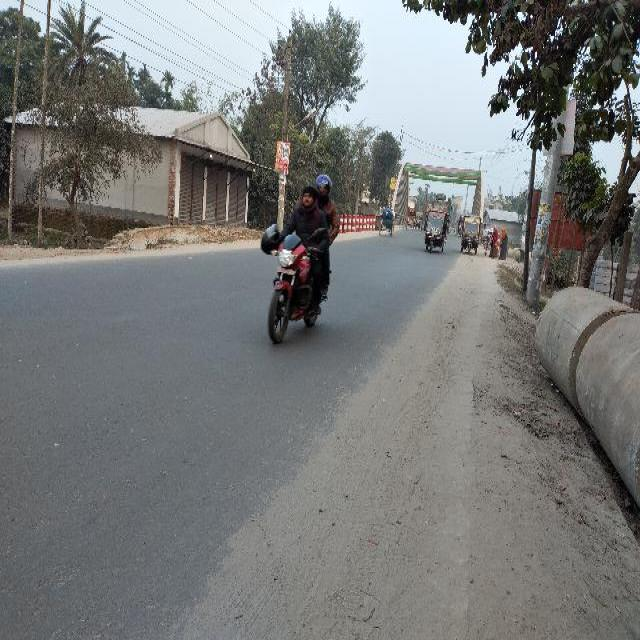bike: (261, 217, 330, 349), (484, 234, 492, 256), (457, 221, 463, 237)
vehicle: (425, 210, 450, 254), (461, 215, 482, 256), (378, 209, 394, 238), (407, 208, 417, 229), (416, 211, 422, 231), (450, 227, 455, 235)
